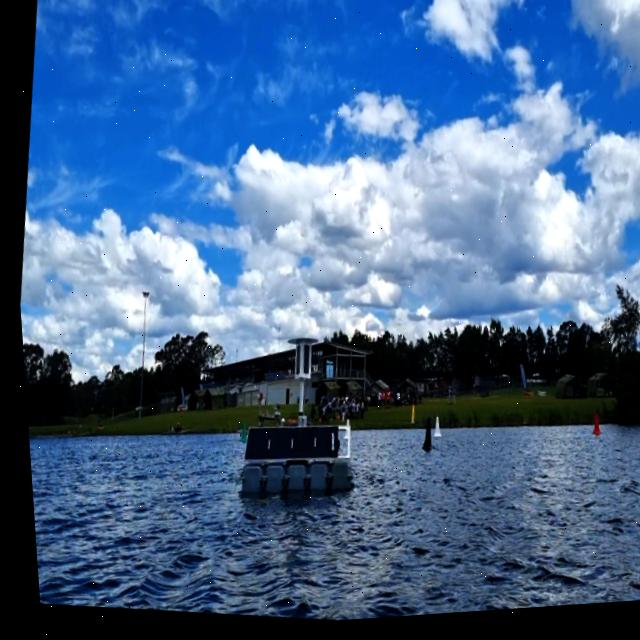led: (292, 344, 308, 380), (287, 346, 298, 379)
